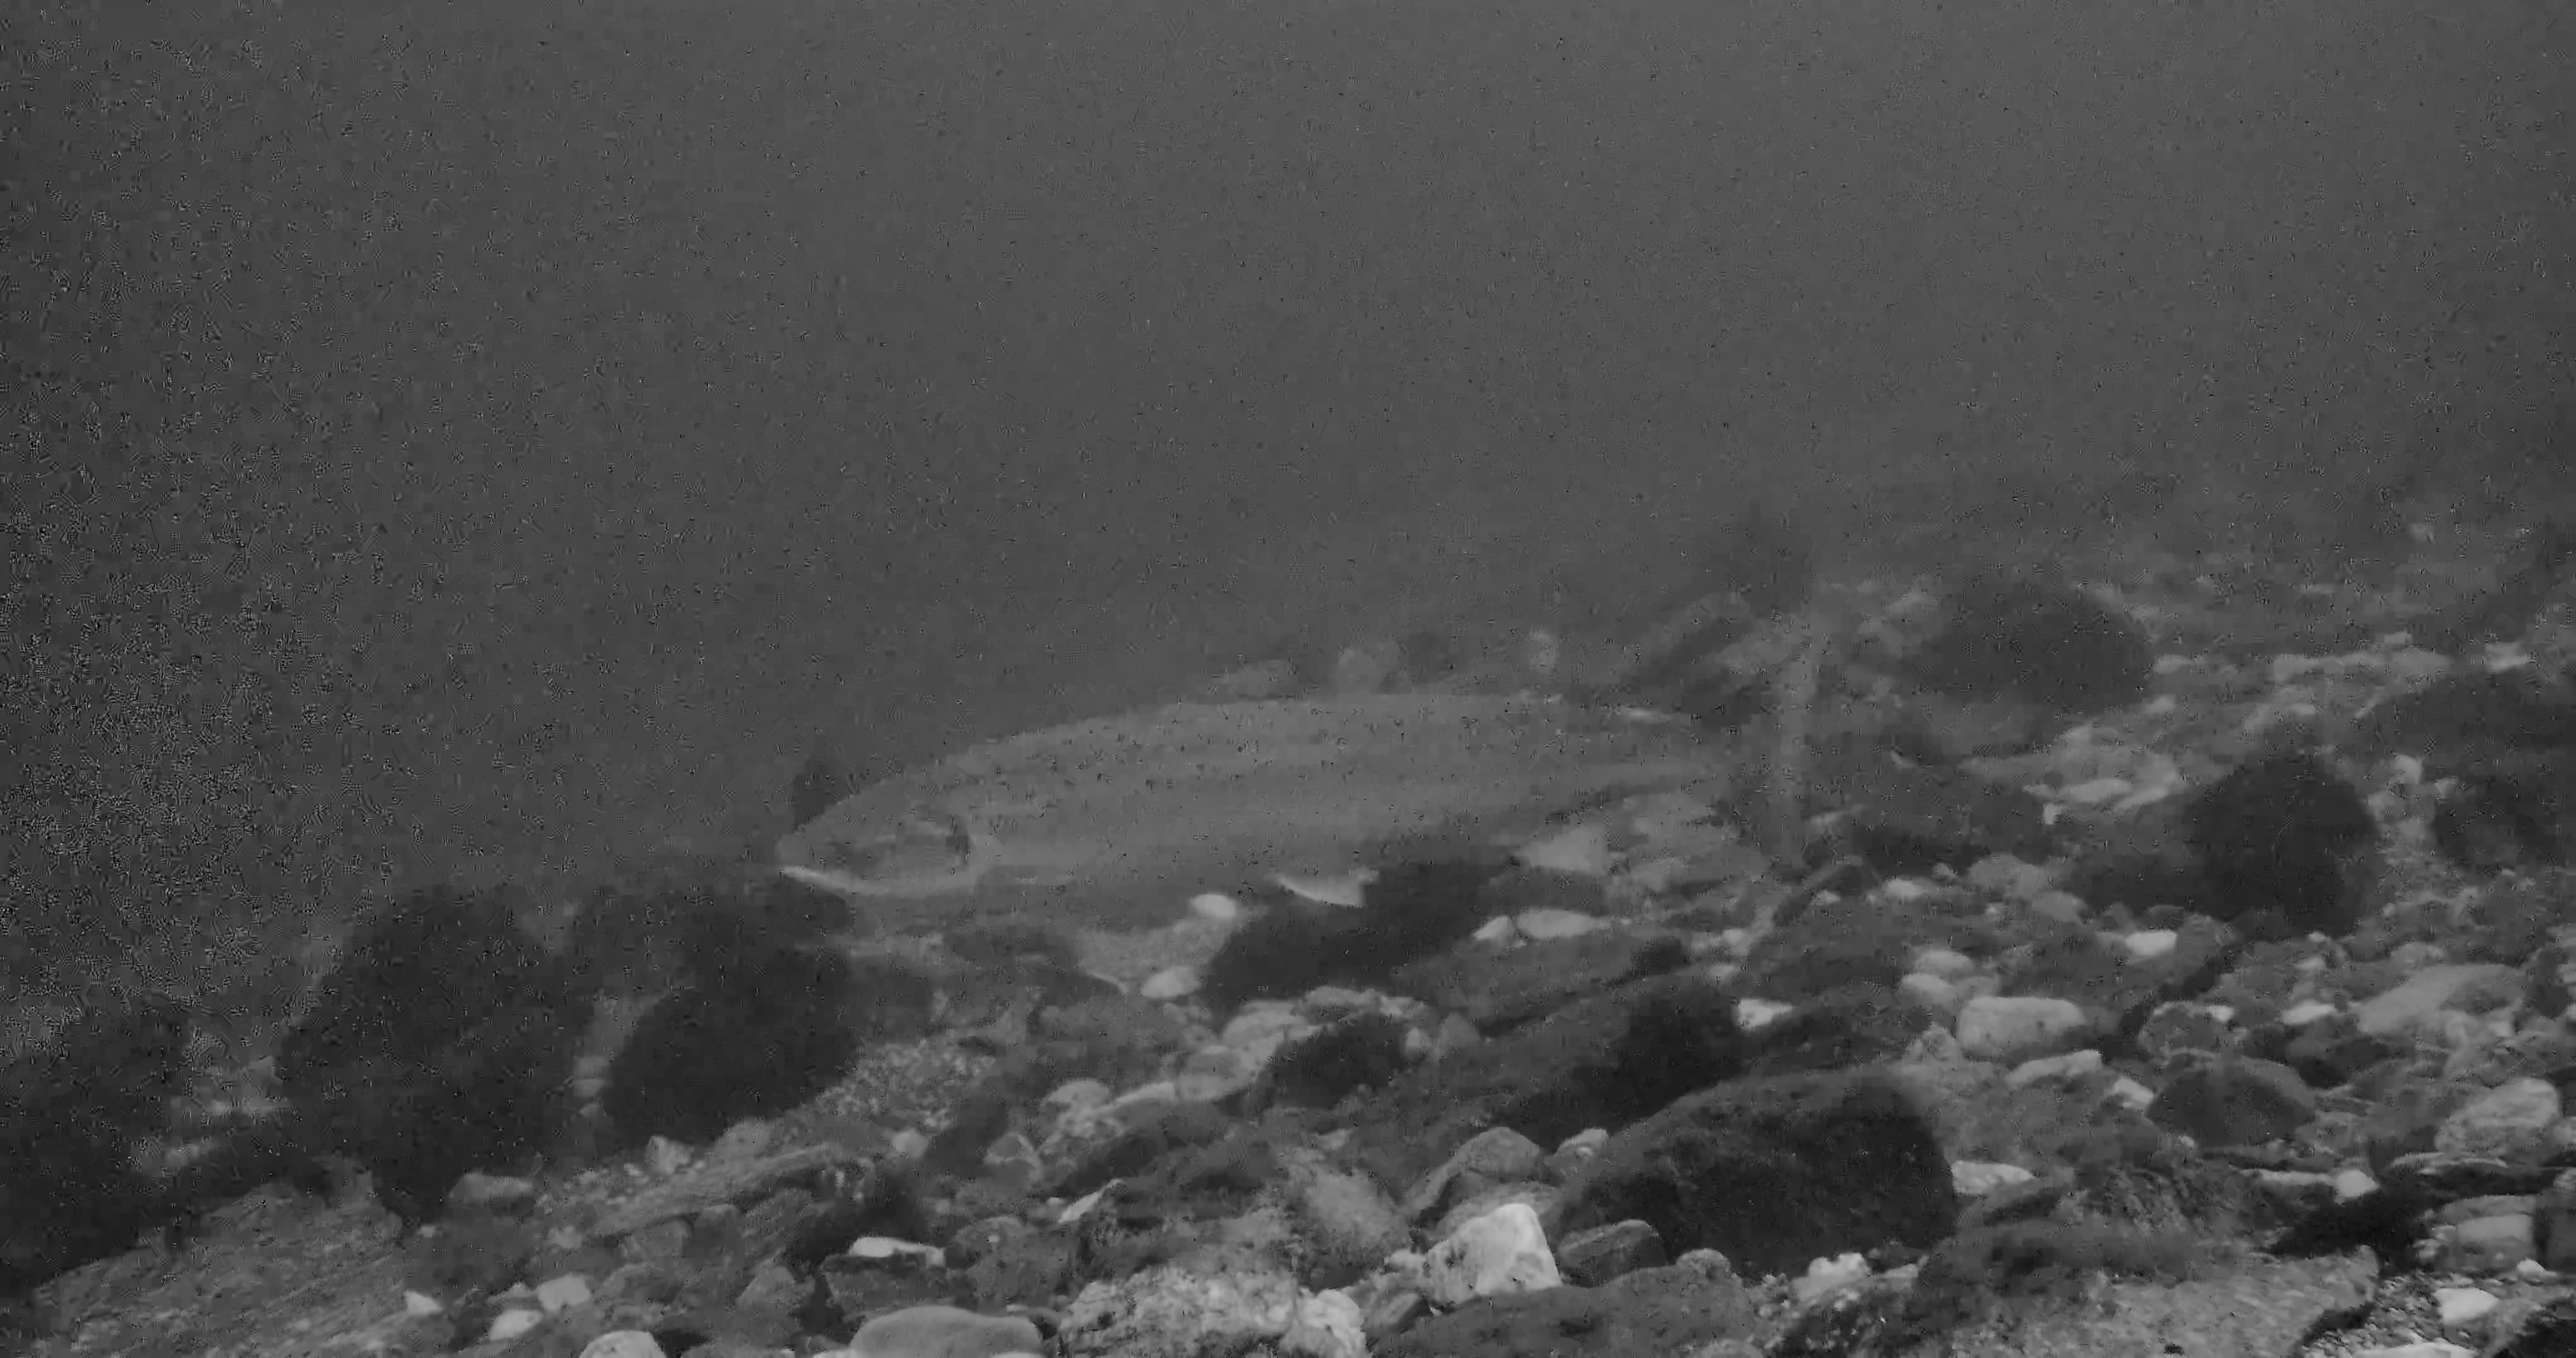salmon: (765, 624, 1838, 930)
